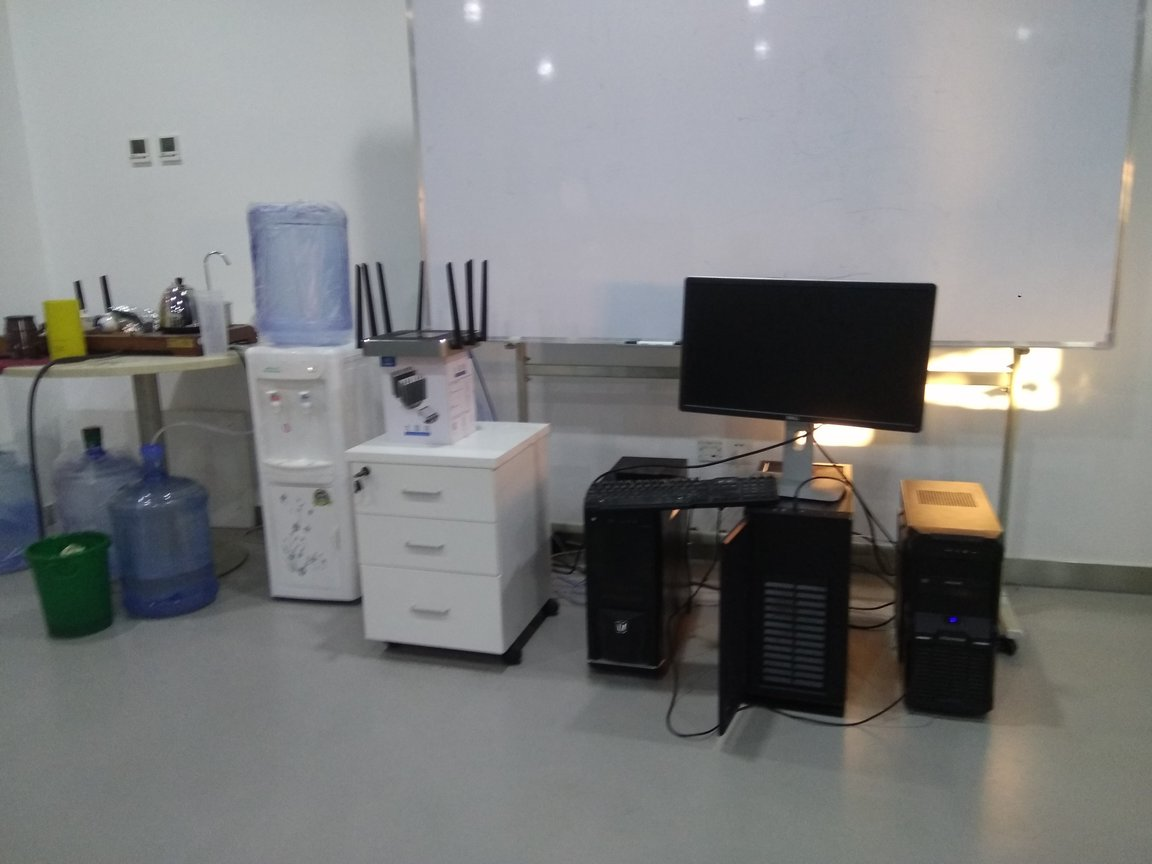computer: (722, 453, 860, 728), (579, 449, 696, 690), (891, 474, 1004, 723)
drawer chest: (345, 419, 560, 673)
monitor: (679, 273, 930, 506)
scuttlebutt: (116, 445, 219, 620), (247, 197, 361, 350), (57, 425, 148, 587), (1, 448, 52, 575)
water dispenser: (239, 339, 391, 611)
